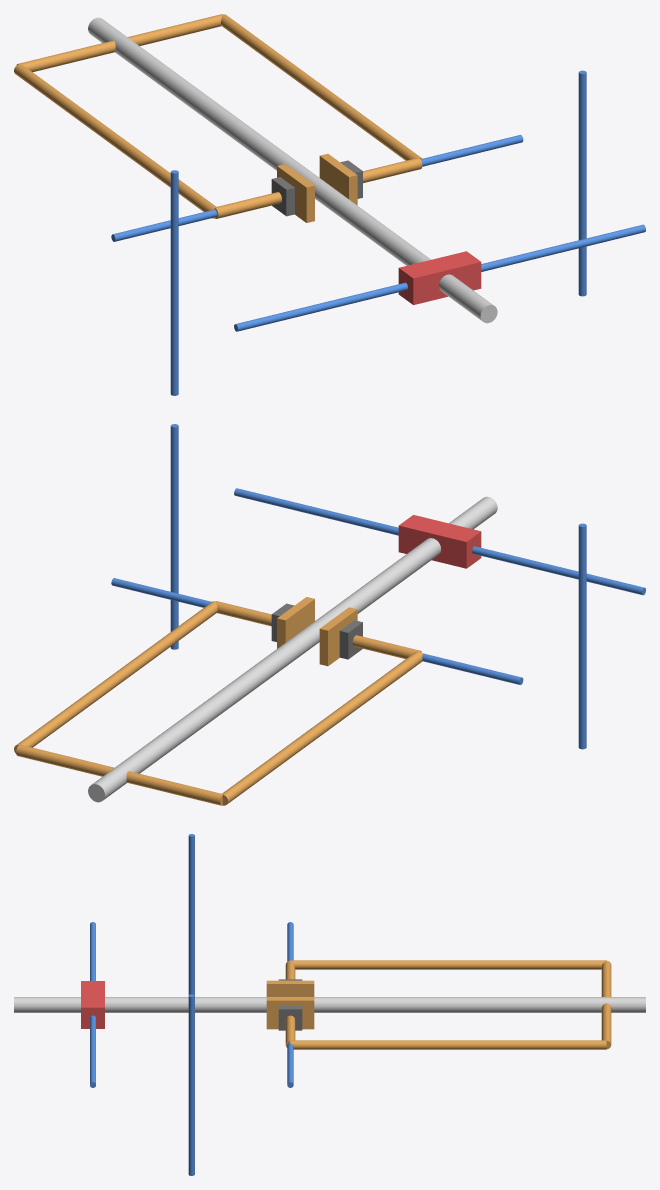
File: dc_coil_motor_assembly.glb
3 renders of one model, top to bottom at view 1: azimuth 30°, elevation 25°; view 2: azimuth 150°, elevation 25°; view 3: azimuth 270°, elevation 25°, orthographic. The views are drawn at different scales.
Visible parts, largest first — view 1: Cylinder, Cylinder.010, Cylinder.002, Cylinder.001, Cube.004, Cylinder.003, Cylinder.008, Cylinder.009, Cube.001, Cube, Cylinder.007, Cylinder.006 (+3 smaller); view 2: Cylinder, Cylinder.001, Cylinder.002, Cylinder.010, Cube.004, Cylinder.003, Cylinder.008, Cylinder.009, Cube, Cube.001, Cylinder.006, Cylinder.007 (+3 smaller); view 3: Cylinder, Cylinder.002, Cylinder.001, Cylinder.009, Cylinder.008, Cube.004, Cube.001, Cylinder.003, Cube, Cylinder.010, Cube.003.
Part boxes in pixels (box(x1,y1,x2,y2)): Cylinder: box(88, 17, 497, 323); Cylinder.010: box(234, 224, 645, 331); Cylinder.002: box(221, 14, 422, 160); Cylinder.001: box(14, 64, 216, 218); Cube.004: box(398, 251, 481, 304); Cylinder.003: box(16, 14, 222, 71); Cylinder.008: box(170, 170, 178, 395); Cylinder.009: box(578, 70, 586, 296); Cube.001: box(319, 153, 357, 205); Cube: box(277, 164, 314, 222); Cylinder.007: box(421, 135, 523, 166); Cylinder.006: box(111, 210, 217, 241); Cylinder: box(88, 496, 497, 802); Cylinder.001: box(222, 651, 422, 805); Cylinder.002: box(14, 601, 217, 753); Cylinder.010: box(234, 488, 645, 595); Cube.004: box(398, 515, 481, 568); Cylinder.003: box(16, 745, 222, 805); Cylinder.008: box(578, 523, 586, 749); Cylinder.009: box(170, 424, 178, 649); Cube: box(319, 607, 357, 666); Cube.001: box(277, 597, 314, 648); Cylinder.006: box(422, 653, 523, 684); Cylinder.007: box(111, 578, 211, 607); Cylinder: box(14, 997, 645, 1012); Cylinder.002: box(290, 1040, 606, 1049); Cylinder.001: box(290, 960, 606, 969); Cylinder.009: box(188, 994, 194, 1175); Cylinder.008: box(188, 834, 194, 994); Cube.004: box(81, 981, 104, 1028); Cube.001: box(266, 997, 314, 1029); Cylinder.003: box(601, 960, 611, 1049); Cube: box(266, 980, 314, 996); Cylinder.010: box(90, 922, 95, 1087); Cube.003: box(278, 1006, 302, 1030).
Bounding box in the file's own units: 4.88 × 2.5 × 8.
